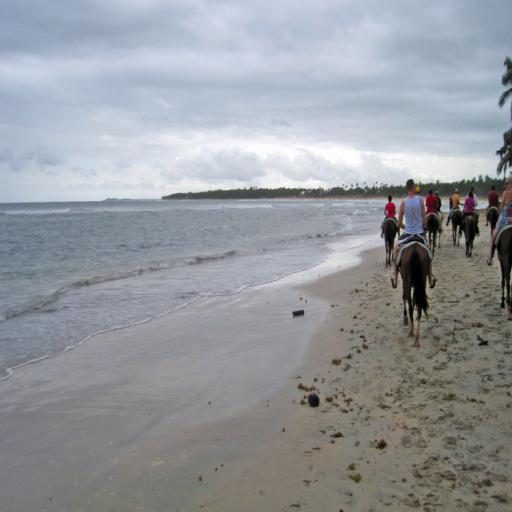horse: (397, 235, 431, 351), (494, 226, 512, 314), (422, 209, 442, 259), (382, 217, 398, 267), (448, 208, 466, 246), (463, 212, 478, 257), (484, 204, 502, 240)
